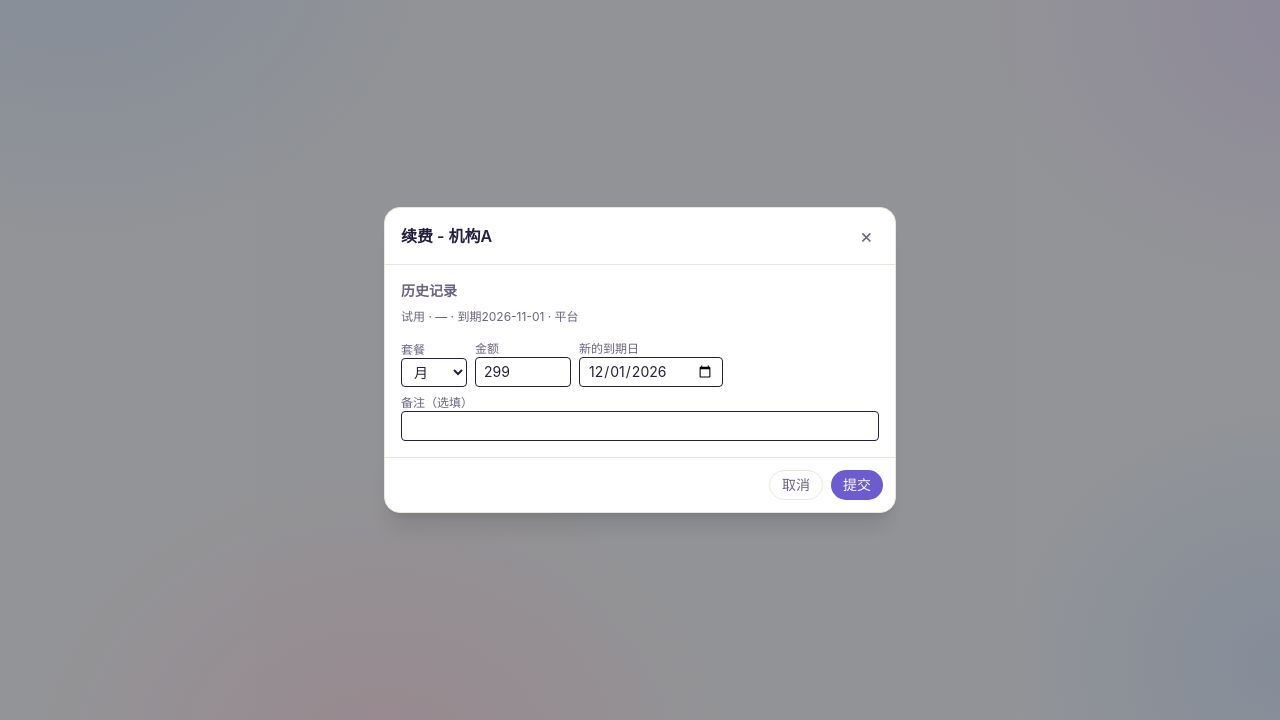
RenewalModal › switching to TRIAL clears and disables the amount field
Expected: the text "平台" is shown, [555,309,579,324]
Select "试用" in the dropdown labelled "套餐". click: (434, 372)
box: [401,358,467,387]
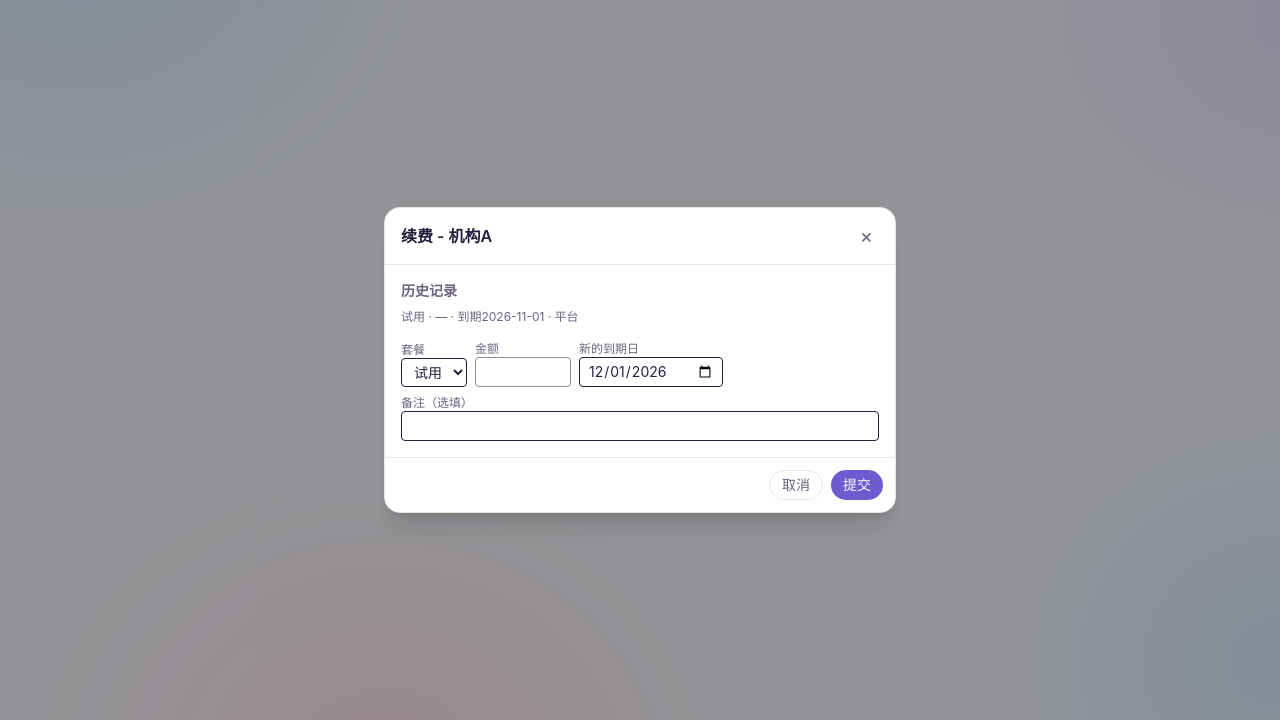
Expected: the date field labelled "新的到期日" holds "2026-12-01", [579,357,723,387]
Result: the number field labelled "金额" is disabled at [475,357,571,387]
